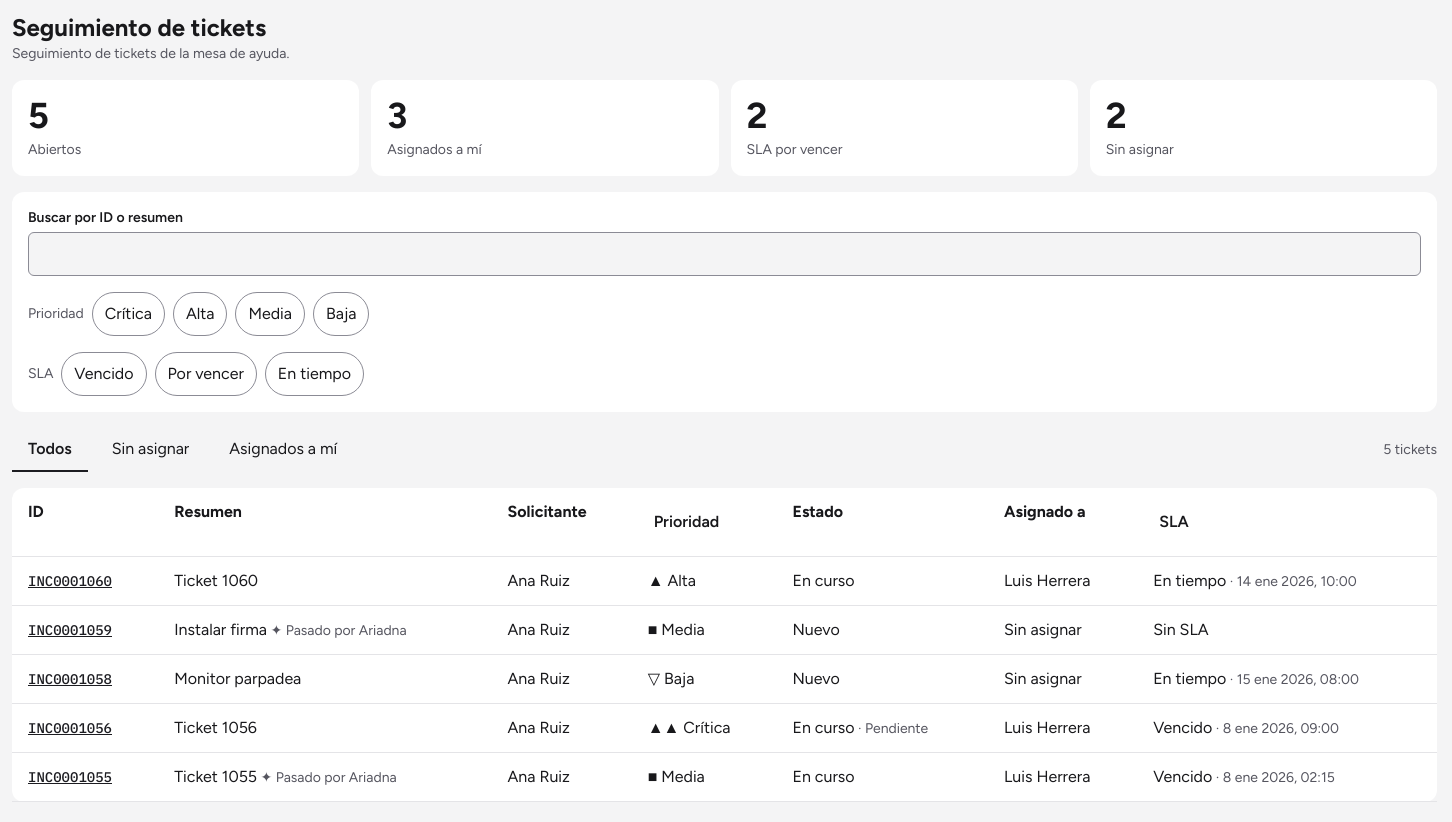
Test case: QueueContainer (T1) › shows the empty state with a reset that restores the default view
In the search field labelled "Buscar por ID o resumen": coordinates (724, 254) [28,232,1421,276], type "zzz"
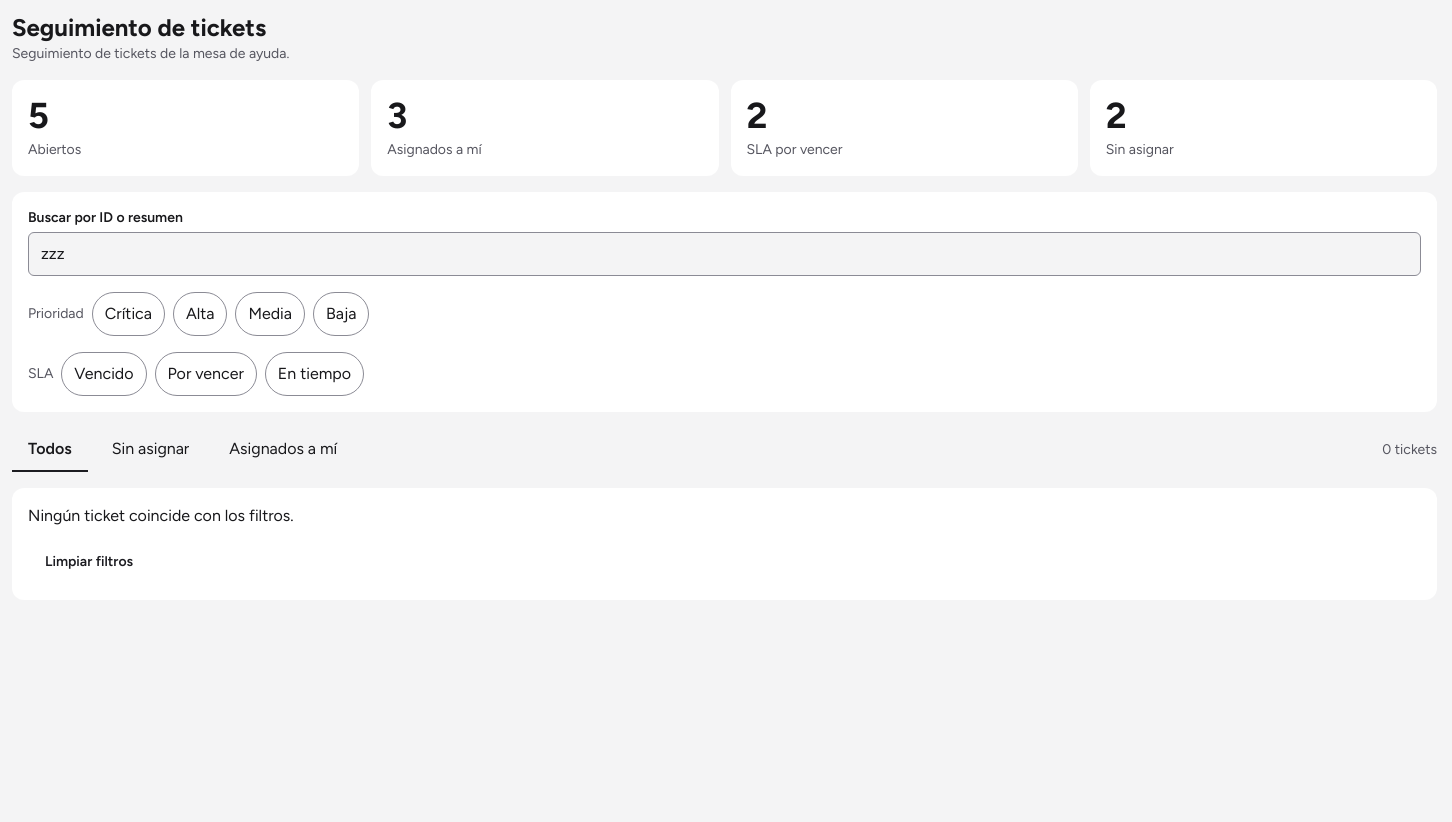
Expected: the text "Ningún ticket coincide con los filtros." is shown, [28,504,294,528]
Expected: the table is gone
Click the button "Limpiar filtros": coordinates (89, 562) [28,540,150,584]
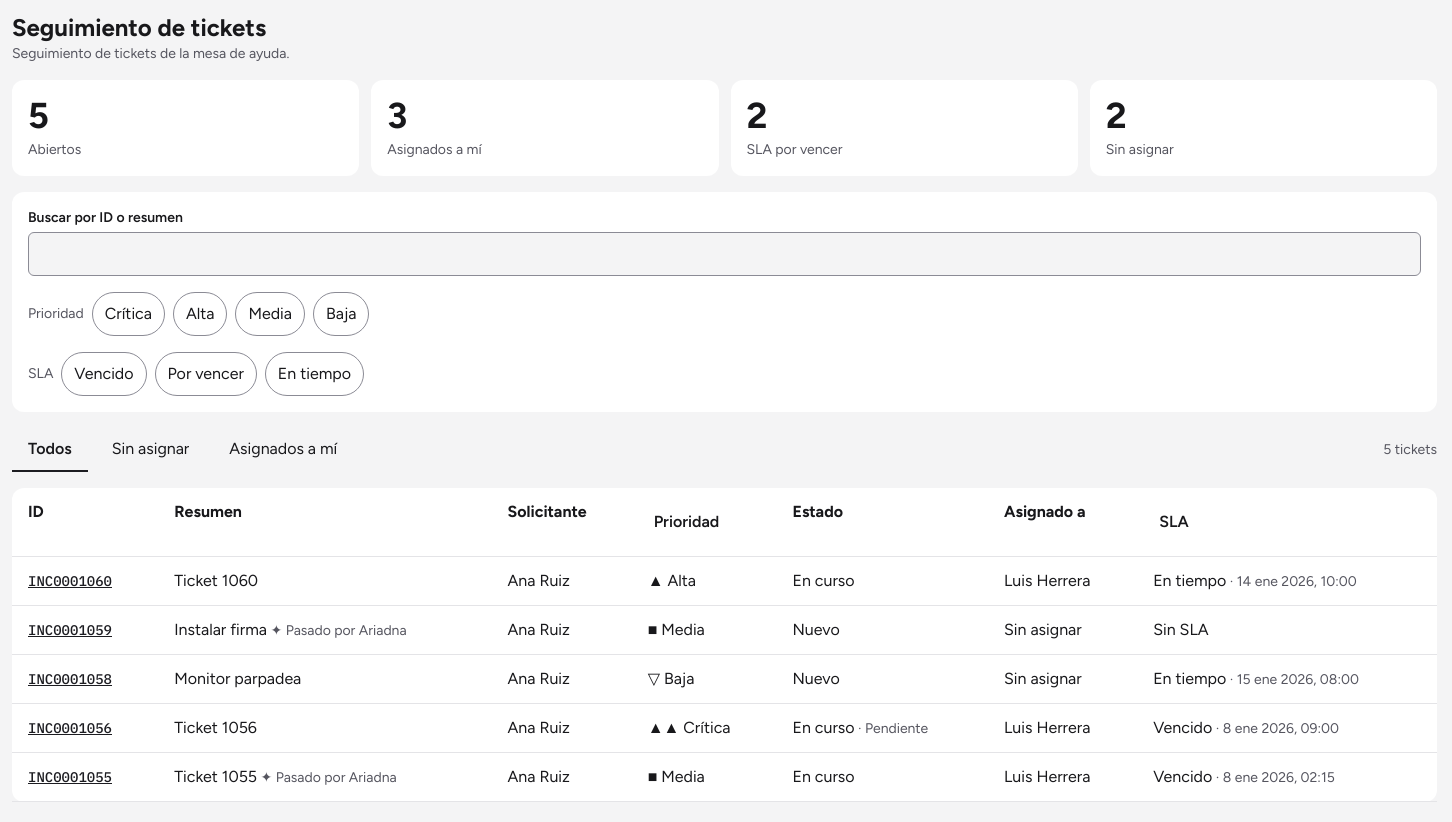
Expected: the number of links is 5, [28,572,112,590]; [28,621,112,639]; [28,670,112,688]; [28,719,112,737]; [28,768,112,786]
